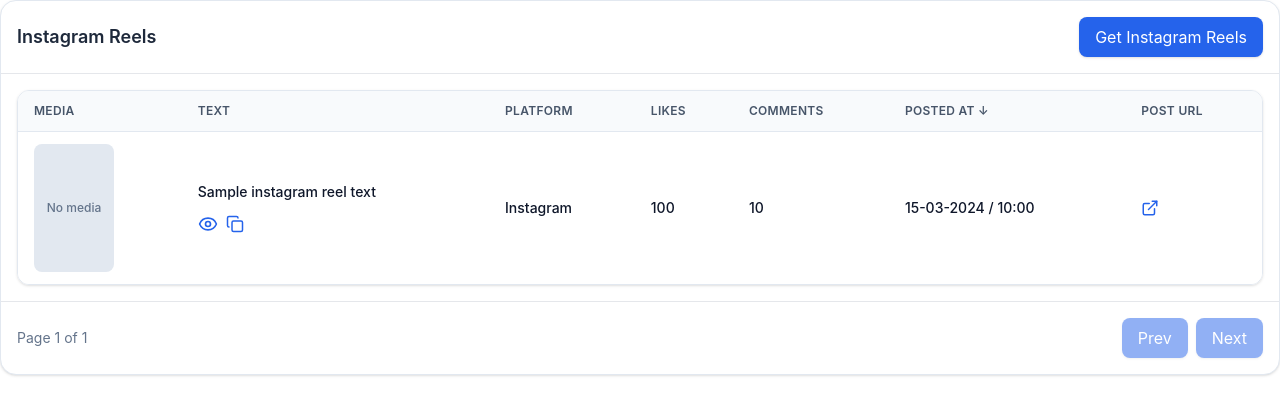
InstagramReelsTable › column sorting › clicking "Likes" header shows ↓ sort indicator
The width and height of the screenshot is (1280, 393).
Click the column heading "Likes": {"x": 684, "y": 111} [635, 91, 733, 132]
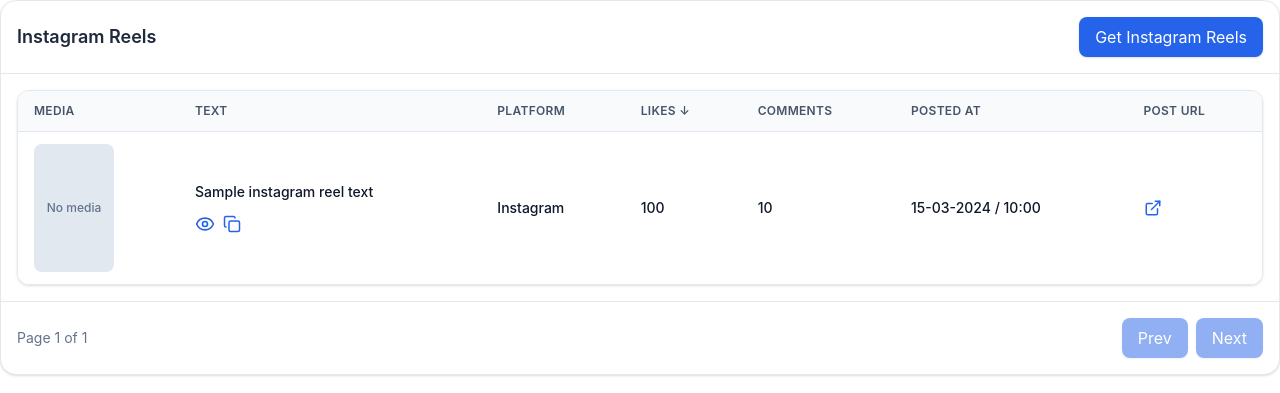
Result: the column heading "Likes ↓" is shown at [625, 91, 742, 132]
